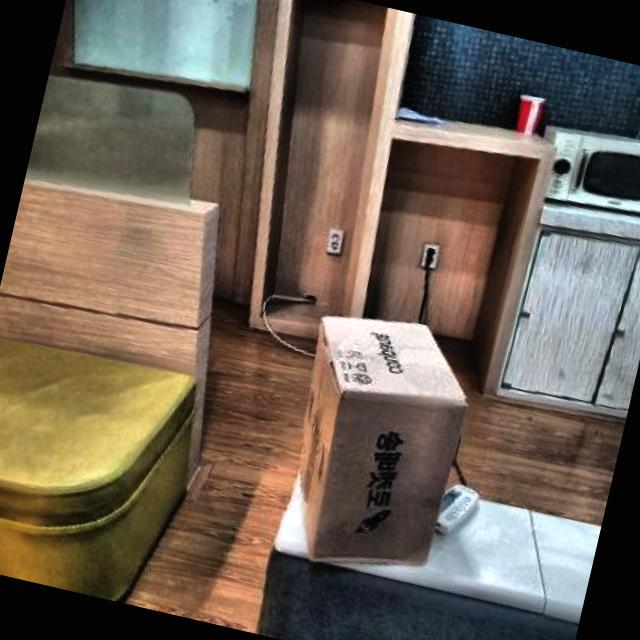box: (234, 283, 492, 610)
